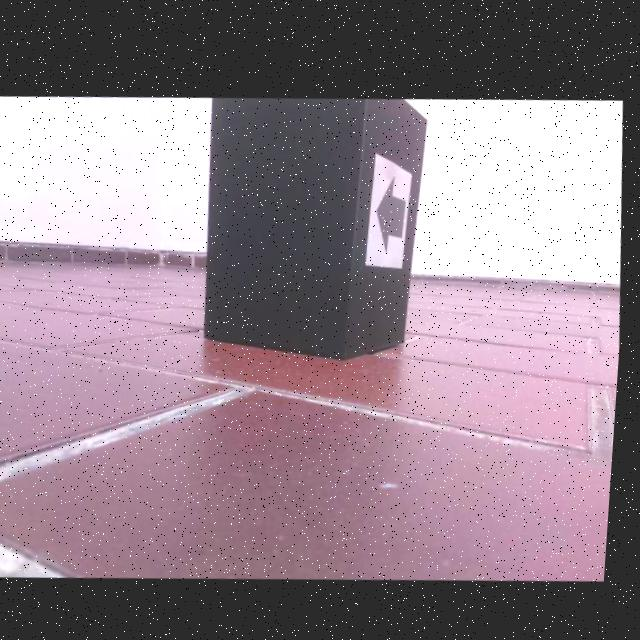LEFT: (379, 170, 408, 250)
